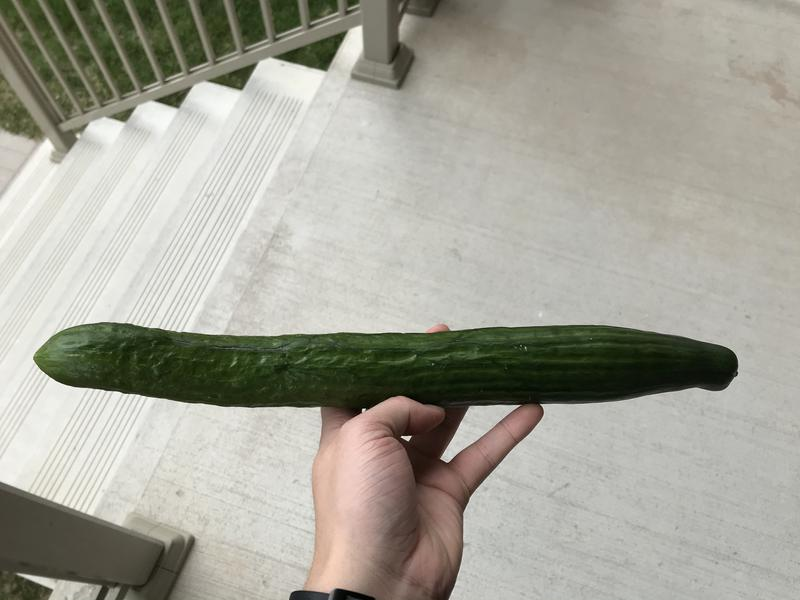cucumber: (19, 308, 755, 421)
